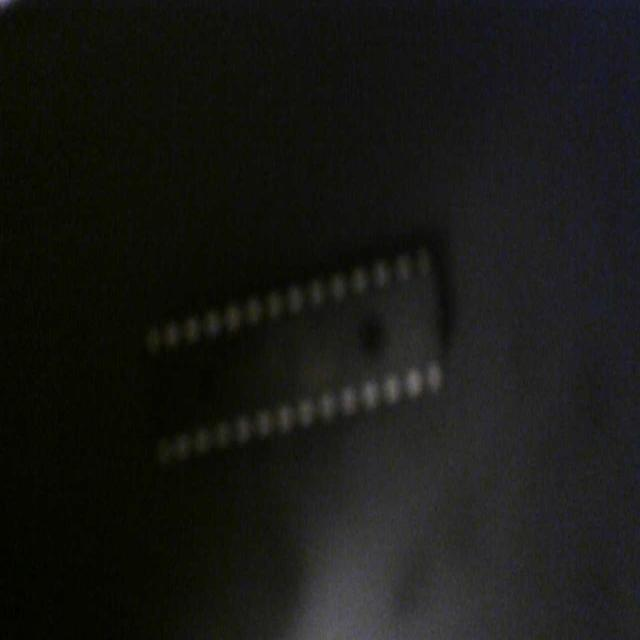atmega: (141, 220, 456, 473)
